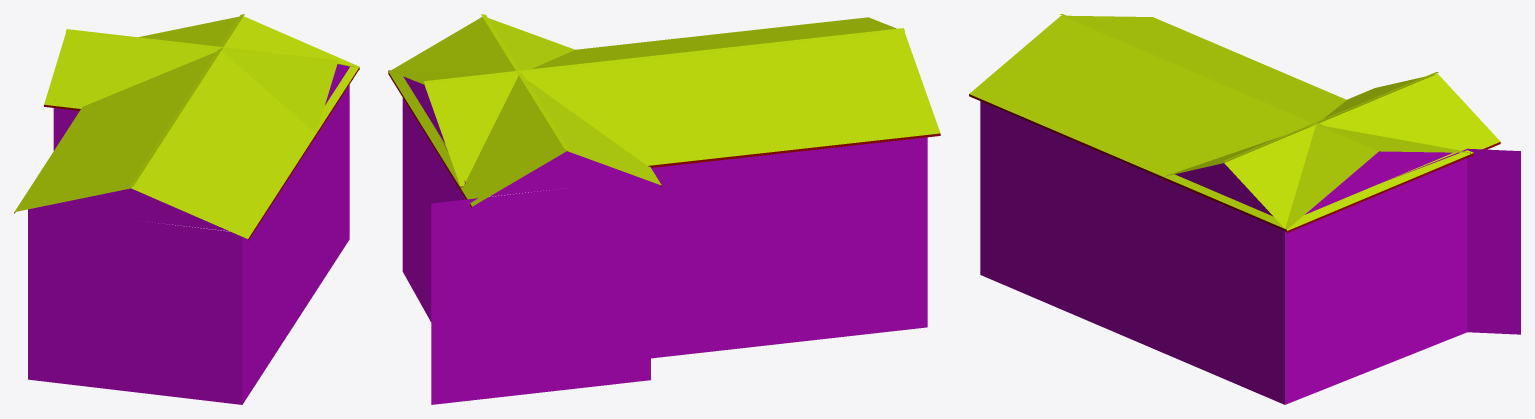
File: ssv_70.glb
The picture shows the model from 3 angles, left to right: view 1: azimuth 30°, elevation 25°; view 2: azimuth 150°, elevation 25°; view 3: azimuth 270°, elevation 25°; orthographic projection. The views are drawn at different scales.
Parts seen in each view (by area): view 1: ssv_70; view 2: ssv_70; view 3: ssv_70.
Part boxes in pixels (left/top/right/bottom): ssv_70: left=14, top=14, right=359, bottom=404; ssv_70: left=388, top=14, right=940, bottom=404; ssv_70: left=969, top=14, right=1520, bottom=404.
Size of the model in its own units: 24.42 by 11.94 by 26.77.
